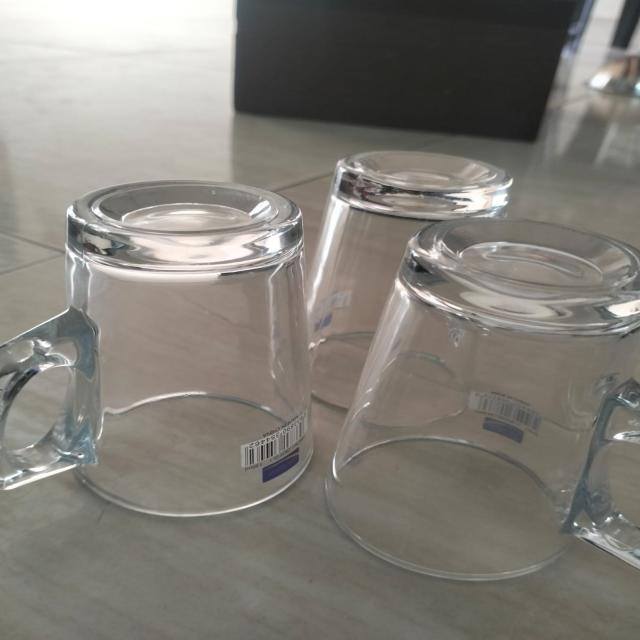glass-VX4N: (339, 220, 640, 588), (0, 182, 318, 512), (316, 147, 507, 428)
